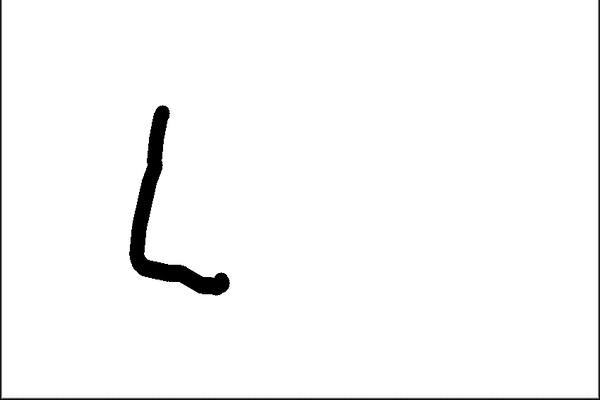L: (125, 99, 235, 298)
